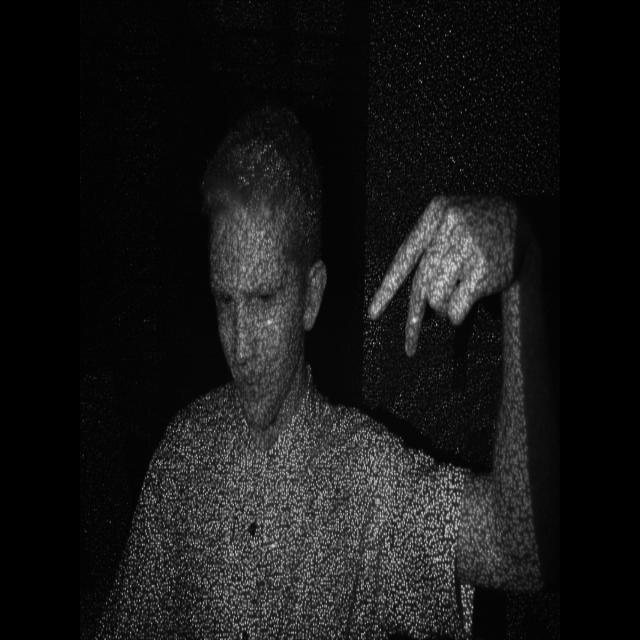P: (365, 175, 527, 368)
